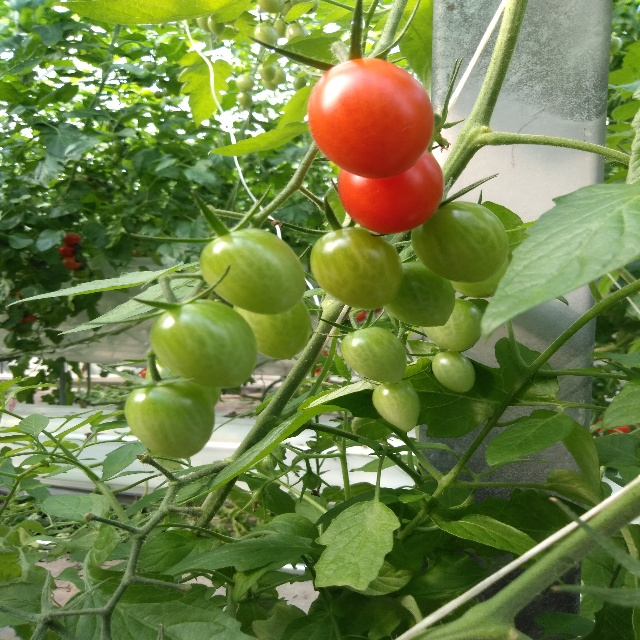l_fully_ripened: (307, 57, 435, 179), (338, 149, 445, 234)
l_green: (150, 300, 258, 388), (199, 227, 306, 315), (412, 201, 509, 283), (309, 227, 402, 311), (124, 378, 215, 458), (382, 261, 455, 328), (233, 299, 312, 360), (340, 327, 406, 384), (420, 298, 483, 351), (372, 381, 421, 432), (449, 257, 509, 298), (431, 351, 476, 393)
